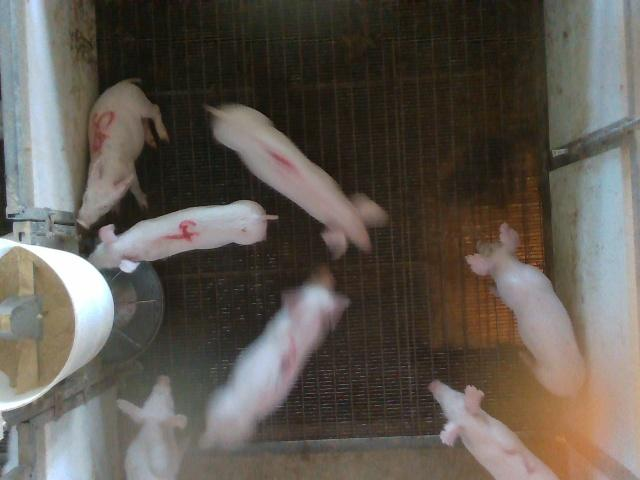pig-1: (206, 104, 388, 258)
pig-2: (430, 380, 558, 479)
pig-3: (200, 266, 349, 449)
pig-4: (89, 200, 276, 272)
pig-5: (78, 79, 169, 228)
